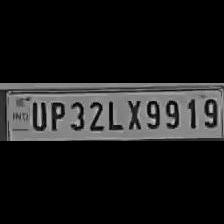1: (181, 96, 199, 130)
2: (86, 97, 106, 132)
3: (66, 97, 86, 131)
9: (142, 96, 162, 130), (160, 96, 180, 130), (199, 95, 219, 129)
L: (104, 97, 122, 132)
P: (46, 98, 66, 132)
U: (27, 98, 46, 132)
X: (122, 96, 142, 130)
